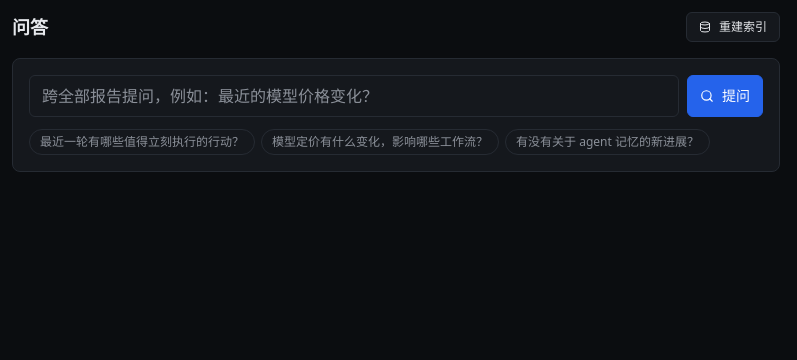
Scenario: AskPage › ignores a stale response that arrives after a newer question
This screenshot has width=797, height=360.
Type "第一个问题" into the field with placeholder "跨全部报告提问，例如：最近的模型价格变化？". click: (354, 96)
box: x1=29 y1=75 x2=679 y2=117
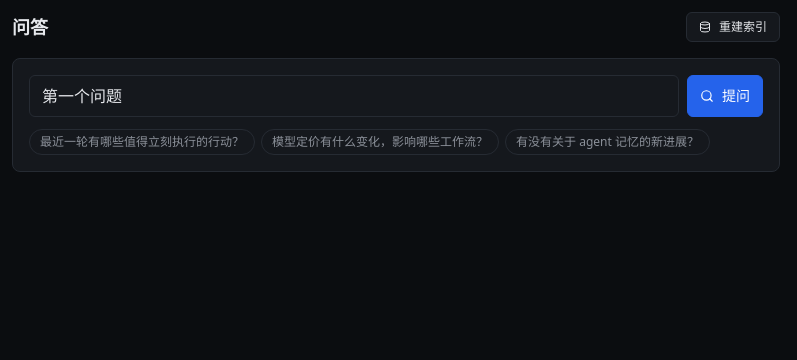
Click the button "提问". click: (725, 96)
box: x1=687 y1=75 x2=763 y2=117
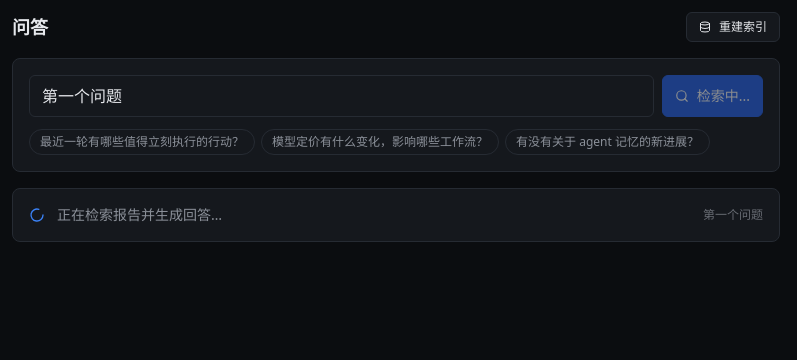
Click the button "模型定价有什么变化，影响哪些工作流？". click: (380, 142)
box: x1=261 y1=129 x2=499 y2=155
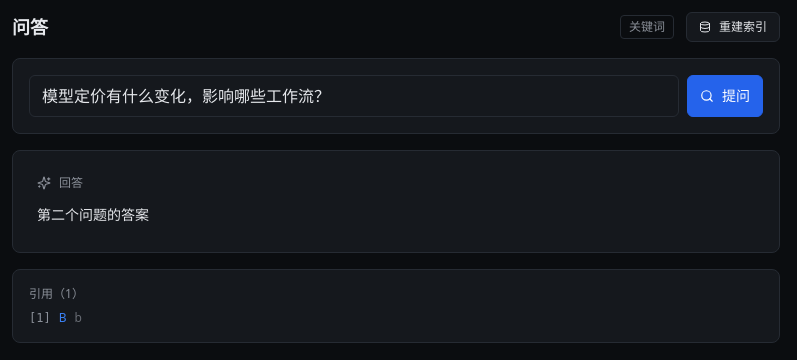
Now the text "第二个问题的答案" is shown, box x1=37 y1=205 x2=149 y2=224
